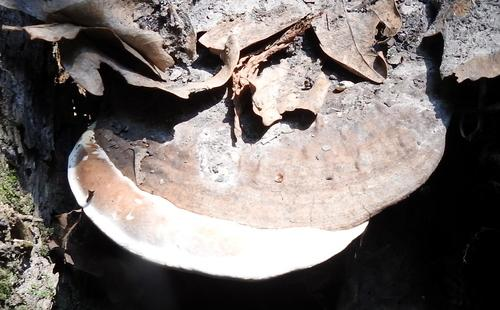Ganoderma - Fruit Body: (65, 83, 447, 283)
